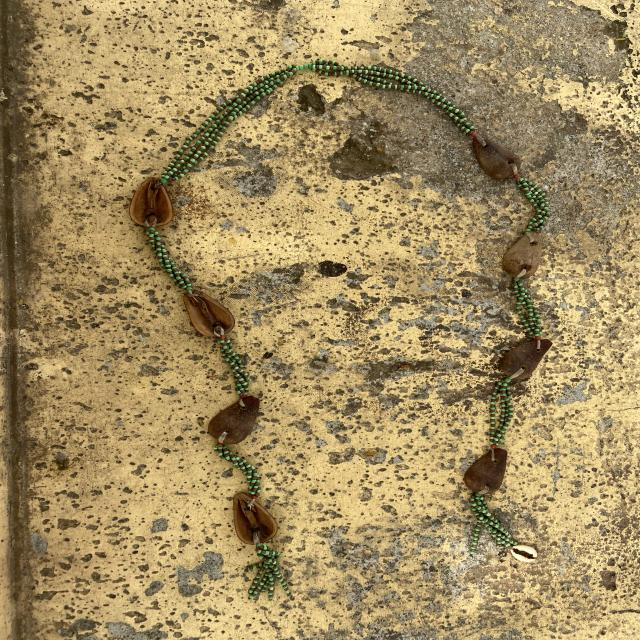facedown: (205, 386, 267, 448), (464, 126, 530, 184), (496, 225, 554, 282), (495, 336, 561, 384), (460, 442, 514, 498)
faceup: (178, 287, 241, 343), (228, 486, 280, 548), (127, 172, 178, 232)
